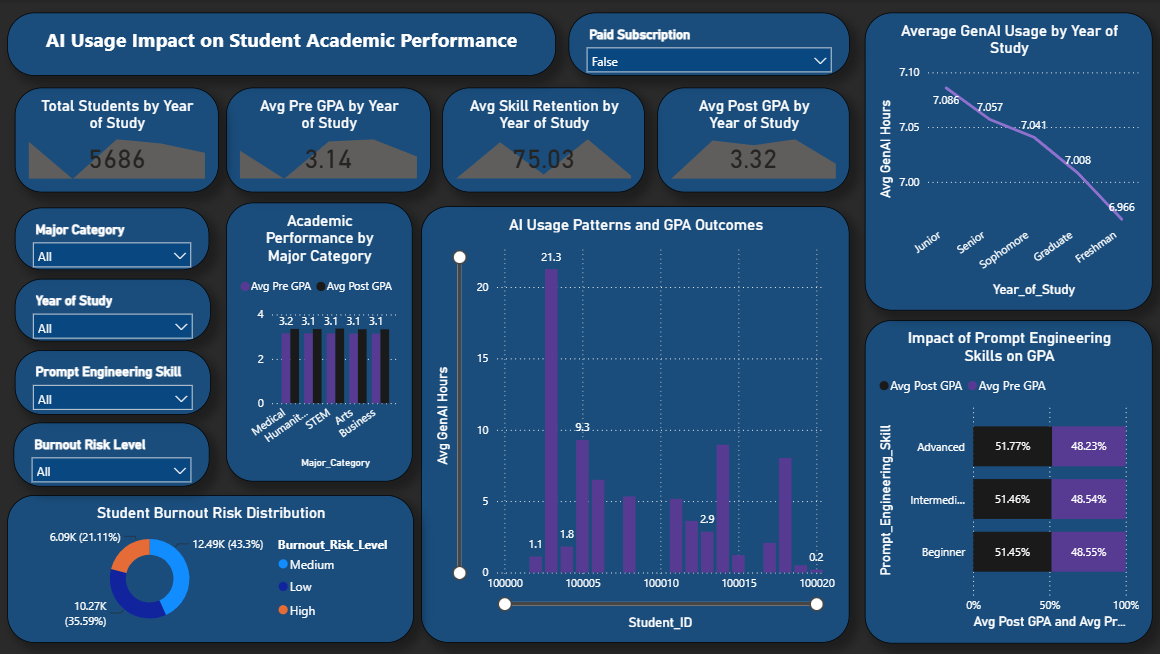

The page's visual inventory and layout, read from the dashboard file:
{"tool":"powerbi","page":{"name":"Page 1","canvas":[1280,720],"ordinal":0},"visuals":[{"type":"kpi","title":"Avg Post GPA by Year of Study","fields":{"Indicator":["ai_usage student_dataset.Avg Post GPA"],"TrendLine":["ai_usage student_dataset.Year_of_Study"]},"box":[725.9,96.1,211.3,115.3],"z":0},{"type":"kpi","title":"Avg Pre GPA by Year of Study","fields":{"Indicator":["ai_usage student_dataset.Avg Pre GPA"],"TrendLine":["ai_usage student_dataset.Year_of_Study"]},"box":[253.1,96.6,225,114.9],"z":1000},{"type":"kpi","title":"Avg Skill Retention by Year of Study","fields":{"Indicator":["ai_usage student_dataset.Avg Skill Retention"],"TrendLine":["ai_usage student_dataset.Year_of_Study"]},"box":[490.4,96.6,222.6,114.9],"z":2000},{"type":"kpi","title":"Total Students by Year of Study","fields":{"Indicator":["ai_usage student_dataset.Total Students"],"TrendLine":["ai_usage student_dataset.Year_of_Study"]},"box":[20.6,96.1,223.7,115.3],"z":3000},{"type":"clusteredColumnChart","title":"Academic Performance by Major Category","fields":{"Category":["ai_usage student_dataset.Major_Category"],"Y":["ai_usage student_dataset.Avg Pre GPA","ai_usage student_dataset.Avg Post GPA"]},"box":[252.5,222.3,204.5,306],"z":4000},{"type":"clusteredColumnChart","title":"AI Usage Patterns and GPA Outcomes","fields":{"Category":["ai_usage student_dataset.Student_ID"],"Y":["ai_usage student_dataset.Avg GenAI Hours"]},"box":[466.6,226.4,470.7,478.9],"z":5000},{"type":"donutChart","title":"Student Burnout Risk Distribution","fields":{"Y":["CountNonNull(ai_usage student_dataset.Student_ID)"],"Category":["ai_usage student_dataset.Burnout_Risk_Level"]},"box":[12.5,543.8,446.2,162.5],"z":6000},{"type":"hundredPercentStackedBarChart","title":"Impact of Prompt Engineering Skills on GPA","fields":{"Y":["ai_usage student_dataset.Avg Post GPA","ai_usage student_dataset.Avg Pre GPA"],"Category":["ai_usage student_dataset.Prompt_Engineering_Skill"]},"box":[953.8,351.2,316.2,355],"z":7000},{"type":"slicer","fields":{"Values":["ai_usage student_dataset.Major_Category"]},"box":[20,227.5,213.8,68.8],"z":8000},{"type":"slicer","fields":{"Values":["ai_usage student_dataset.Year_of_Study"]},"box":[20,306.2,215,68.8],"z":9000},{"type":"slicer","fields":{"Values":["ai_usage student_dataset.Prompt_Engineering_Skill"]},"box":[20,383.8,215,71.2],"z":10000},{"type":"lineChart","title":"Average GenAI Usage by Year of Study","fields":{"Category":["ai_usage student_dataset.Year_of_Study"],"Y":["ai_usage student_dataset.Avg GenAI Hours"]},"box":[953.8,13.8,316.2,327.5],"z":11000},{"type":"slicer","fields":{"Values":["ai_usage student_dataset.Burnout_Risk_Level"]},"box":[18.8,463.8,215,70],"z":12000},{"type":"textbox","box":[12.3,13.7,602.4,70],"z":13000},{"type":"slicer","fields":{"Values":["ai_usage student_dataset.Paid_Subscription"]},"box":[628.5,13.7,308.7,70],"z":14000}]}

Visuals, with their boxes in screenshot pixels (x1, y1, x2, y2), scaled from the page's 1280x720 canvas onto the 1160x654 screenshot:
"Avg Post GPA by Year of Study" kpi: pyautogui.locateOnScreen(658, 87, 849, 192)
"Avg Pre GPA by Year of Study" kpi: pyautogui.locateOnScreen(229, 88, 433, 192)
"Avg Skill Retention by Year of Study" kpi: pyautogui.locateOnScreen(444, 88, 646, 192)
"Total Students by Year of Study" kpi: pyautogui.locateOnScreen(19, 87, 221, 192)
"Academic Performance by Major Category" clusteredColumnChart: pyautogui.locateOnScreen(229, 202, 414, 480)
"AI Usage Patterns and GPA Outcomes" clusteredColumnChart: pyautogui.locateOnScreen(423, 206, 849, 641)
"Student Burnout Risk Distribution" donutChart: pyautogui.locateOnScreen(11, 494, 416, 642)
"Impact of Prompt Engineering Skills on GPA" hundredPercentStackedBarChart: pyautogui.locateOnScreen(864, 319, 1151, 641)
slicer - ai_usage student_dataset.Major_Category: pyautogui.locateOnScreen(18, 207, 212, 269)
slicer - ai_usage student_dataset.Year_of_Study: pyautogui.locateOnScreen(18, 278, 213, 341)
slicer - ai_usage student_dataset.Prompt_Engineering_Skill: pyautogui.locateOnScreen(18, 349, 213, 413)
"Average GenAI Usage by Year of Study" lineChart: pyautogui.locateOnScreen(864, 13, 1151, 310)
slicer - ai_usage student_dataset.Burnout_Risk_Level: pyautogui.locateOnScreen(17, 421, 212, 485)
textbox: pyautogui.locateOnScreen(11, 12, 557, 76)
slicer - ai_usage student_dataset.Paid_Subscription: pyautogui.locateOnScreen(570, 12, 849, 76)
